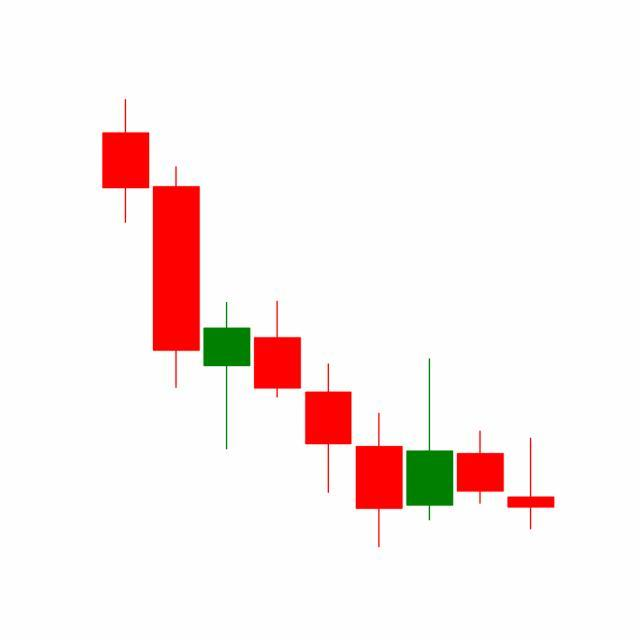Hikkake Pattern: (302, 355, 555, 549)
